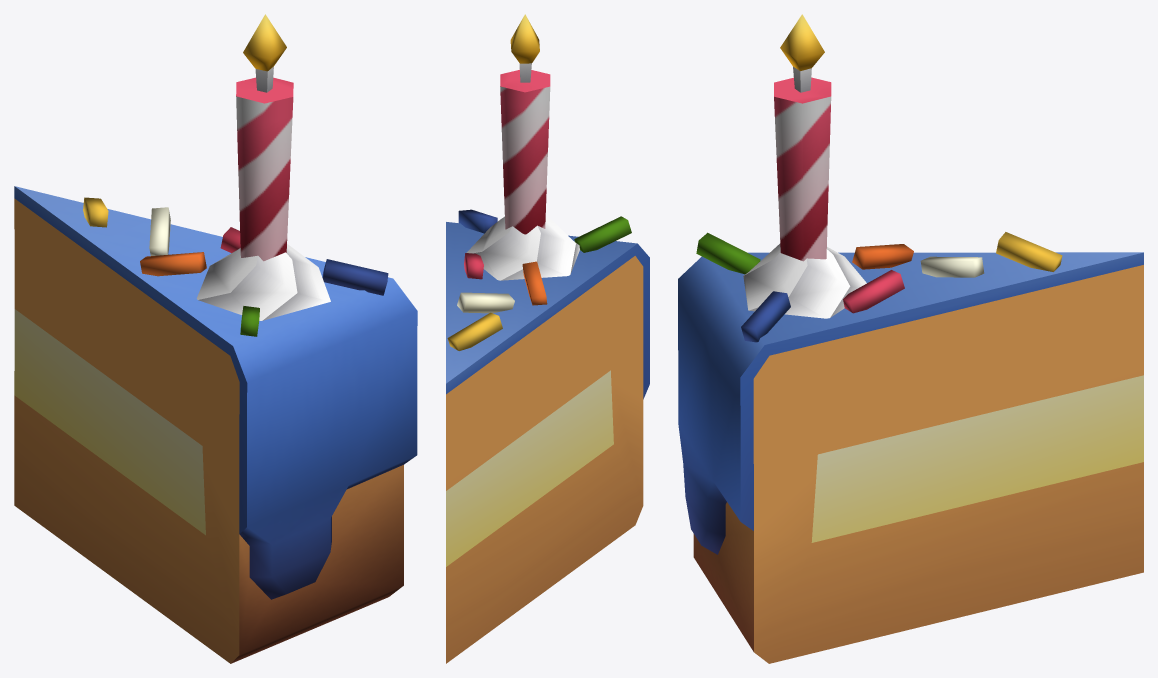
Rendered from m_BirthdayCake03_Slice02.fbx.
The picture shows the model from 3 angles, left to right: view 1: azimuth 30°, elevation 25°; view 2: azimuth 150°, elevation 25°; view 3: azimuth 270°, elevation 25°; orthographic projection. The views are drawn at different scales.
Visible parts, largest first — view 1: m_BirthdayCake03_Slice02; view 2: m_BirthdayCake03_Slice02; view 3: m_BirthdayCake03_Slice02.
Boxes of the visible parts, x1,y1,x2,y2 form: m_BirthdayCake03_Slice02: (14,14,417,663); m_BirthdayCake03_Slice02: (446,14,649,663); m_BirthdayCake03_Slice02: (678,14,1143,663).
Size of the model in its own units: 7.24 by 20.5 by 14.48.
